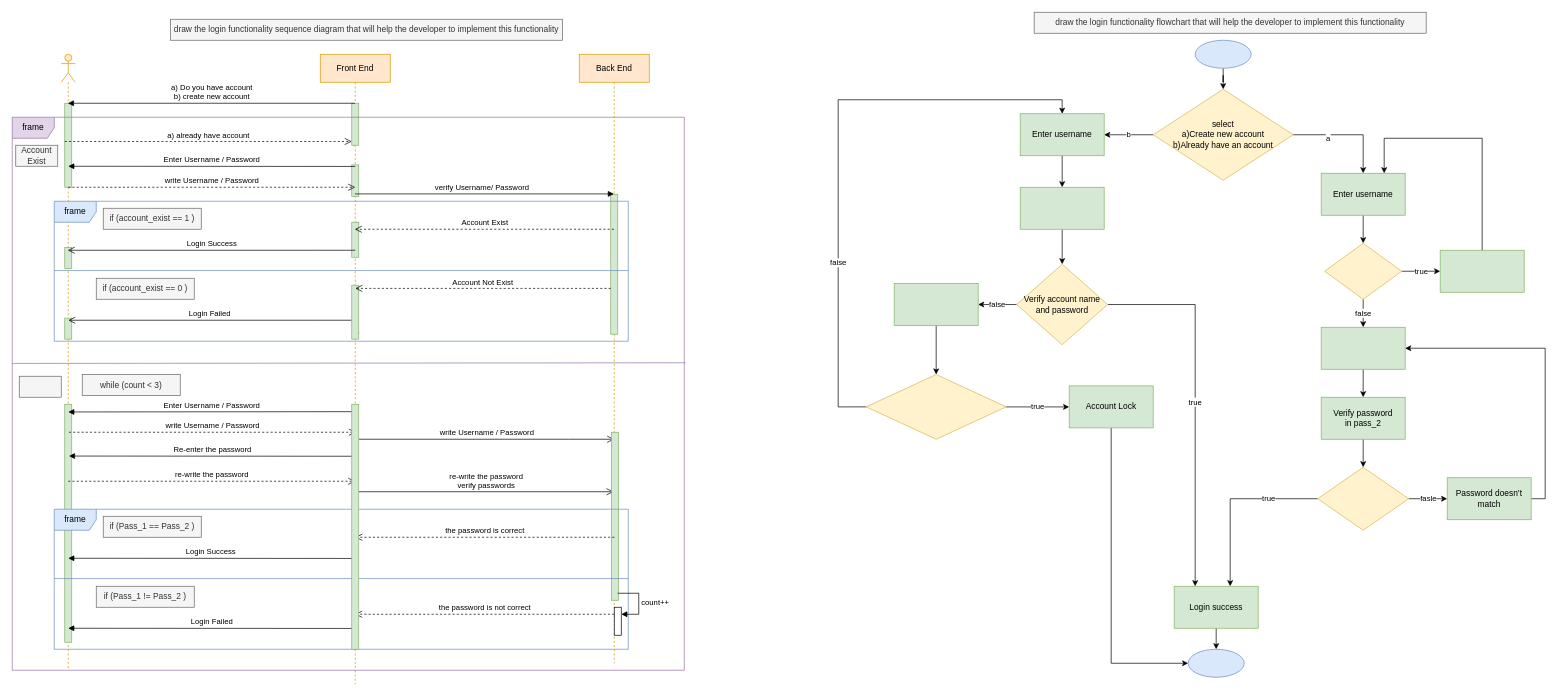
This 1563x697 diagram has some shape labels left out. The shapes that lost their labels are listed below. From the top down, each one's centre as x and y in pixels, then its label:
At (1222,54): "start".
At (1061,208): "enter Password".
At (1363,271): "Check name existence".
At (1481,271): "Username already exist".
At (935,304): "wrong password Count++".
At (1362,348): "enter Password in pass_1".
At (40,386): "New Account".
At (935,406): "if (wrong password Count == 3)".
At (1363,498): "If ( pass_1 == pass_2)".
At (1215,663): "End".
